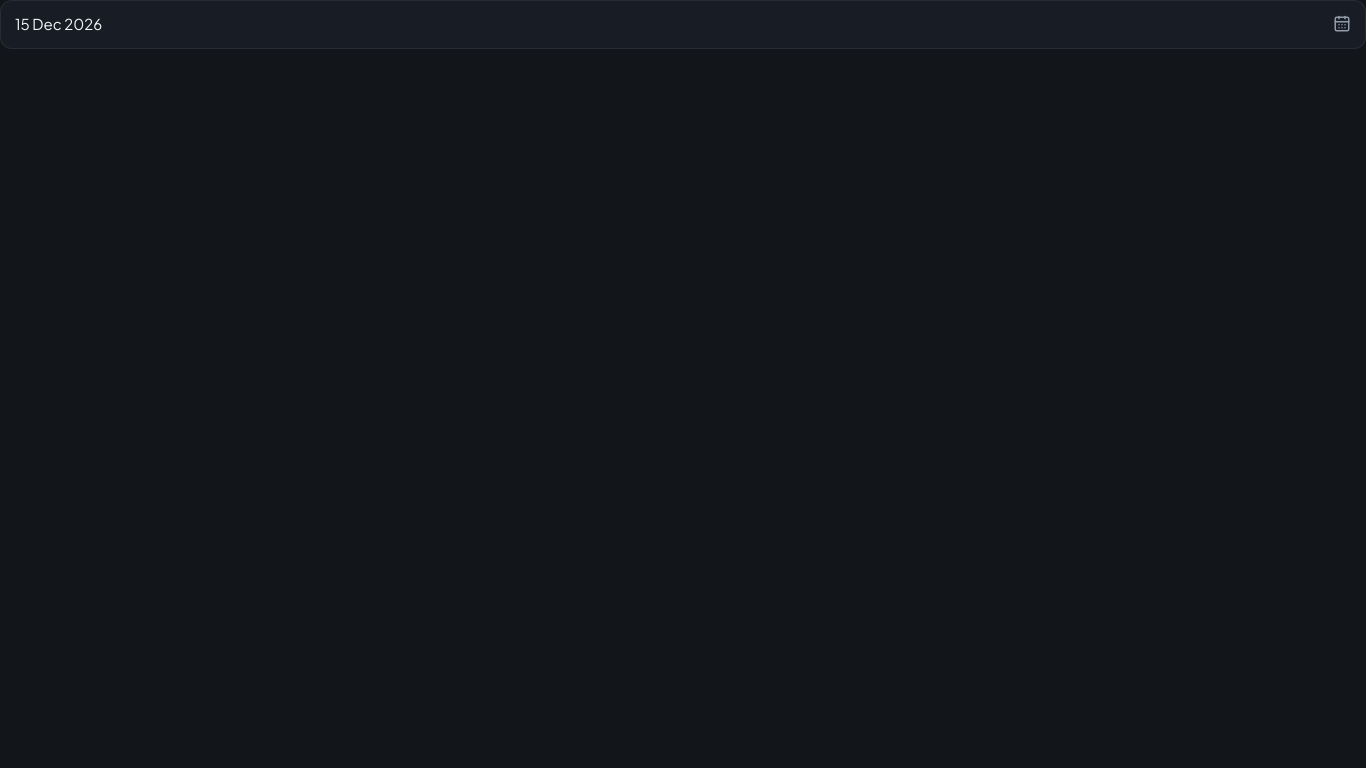
Test: DatePicker (a calendar in a bottom sheet) › moves between months, across the year end
This screenshot has width=1366, height=768.
Click the button with aria-label "Day": coordinates (59, 24) [0,0,1365,48]
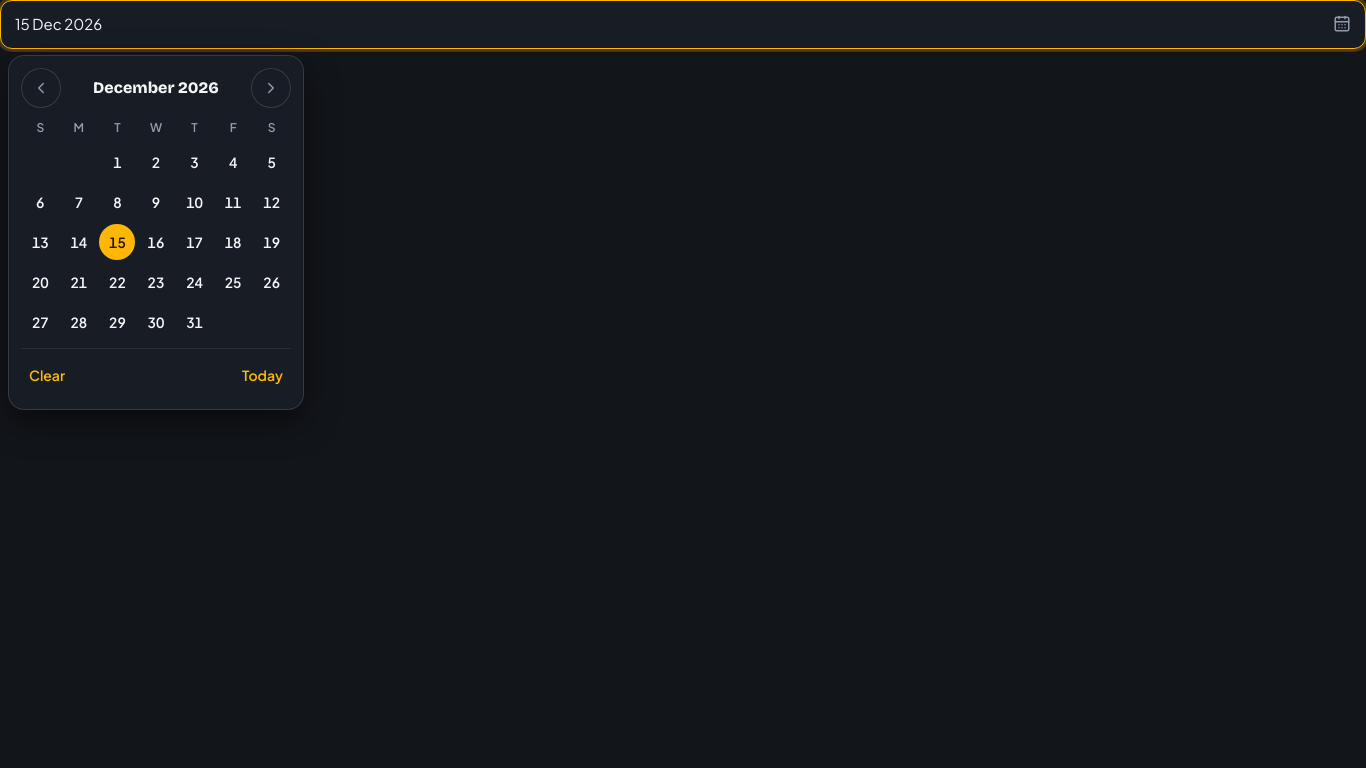
Click the button named "Next month": coordinates (271, 88) [251,68,291,108]
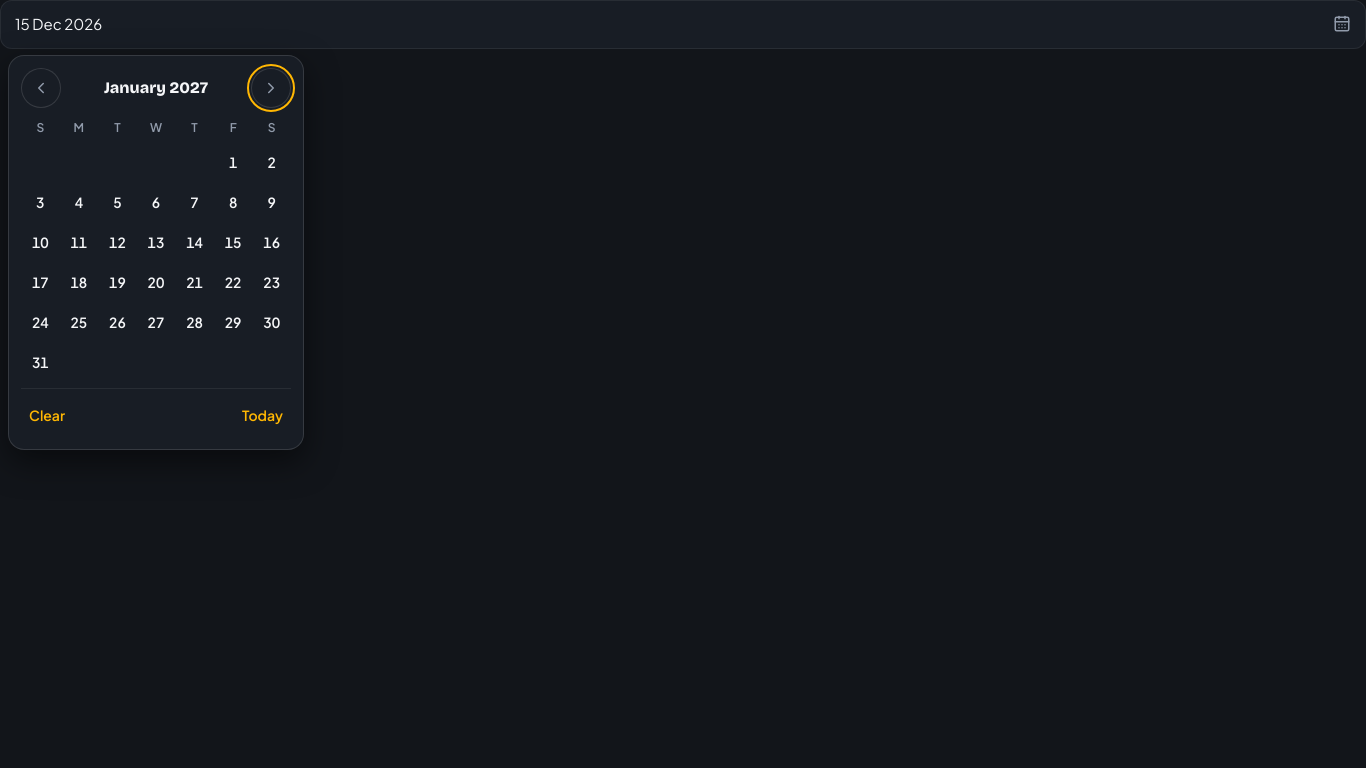
expect the text "January 2027" is shown: met, box [104,76,208,100]
Click the button named "Previous month": coordinates (41, 88) [21,68,61,108]
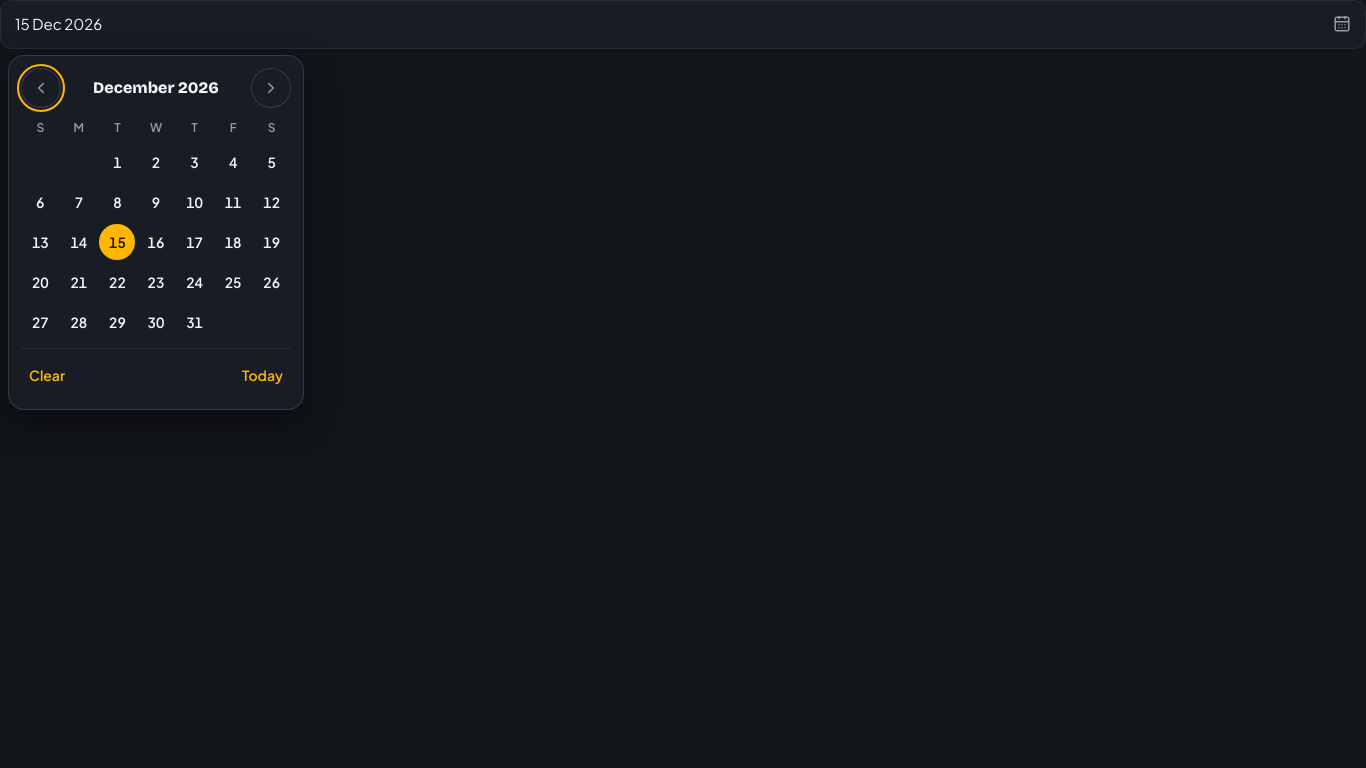
Click the button named "Previous month": coordinates (41, 88) [21,68,61,108]
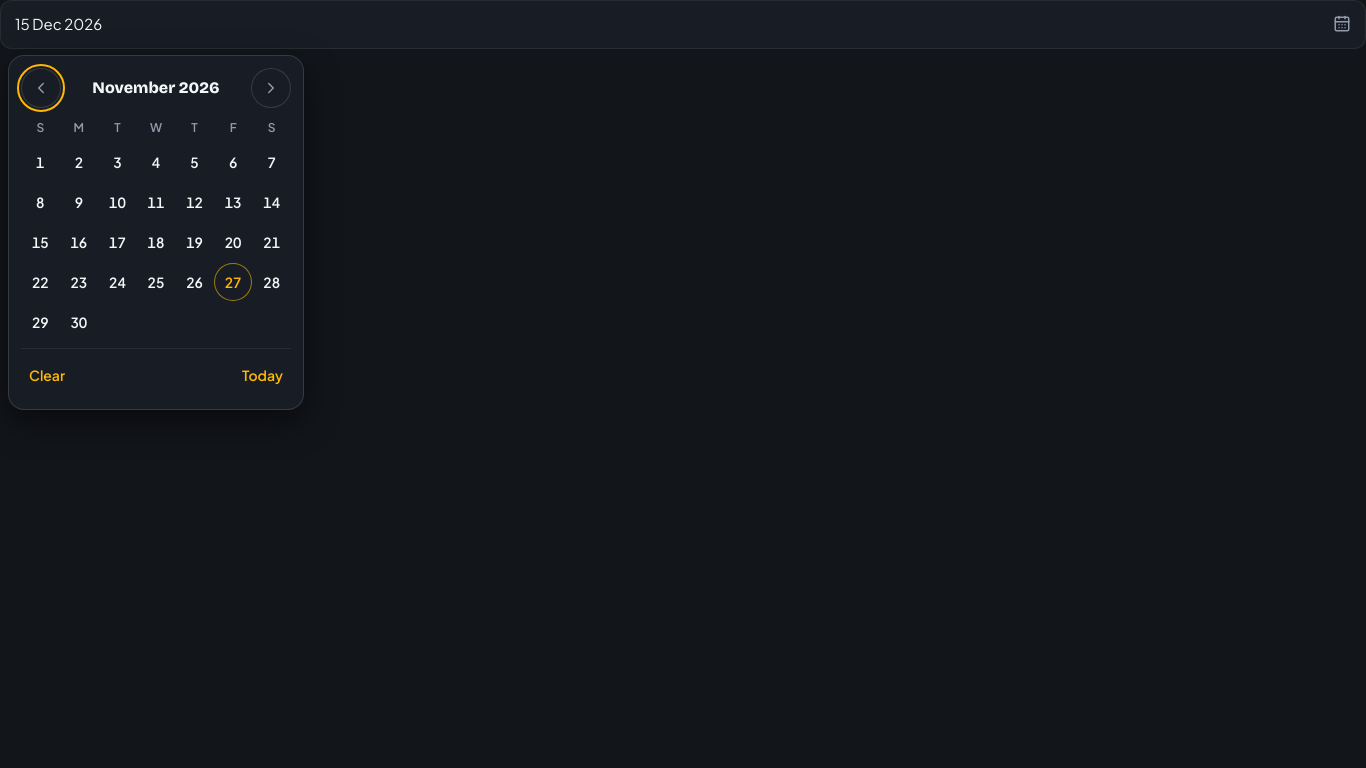
expect the text "November 2026" is shown: met, box [92,76,220,100]
